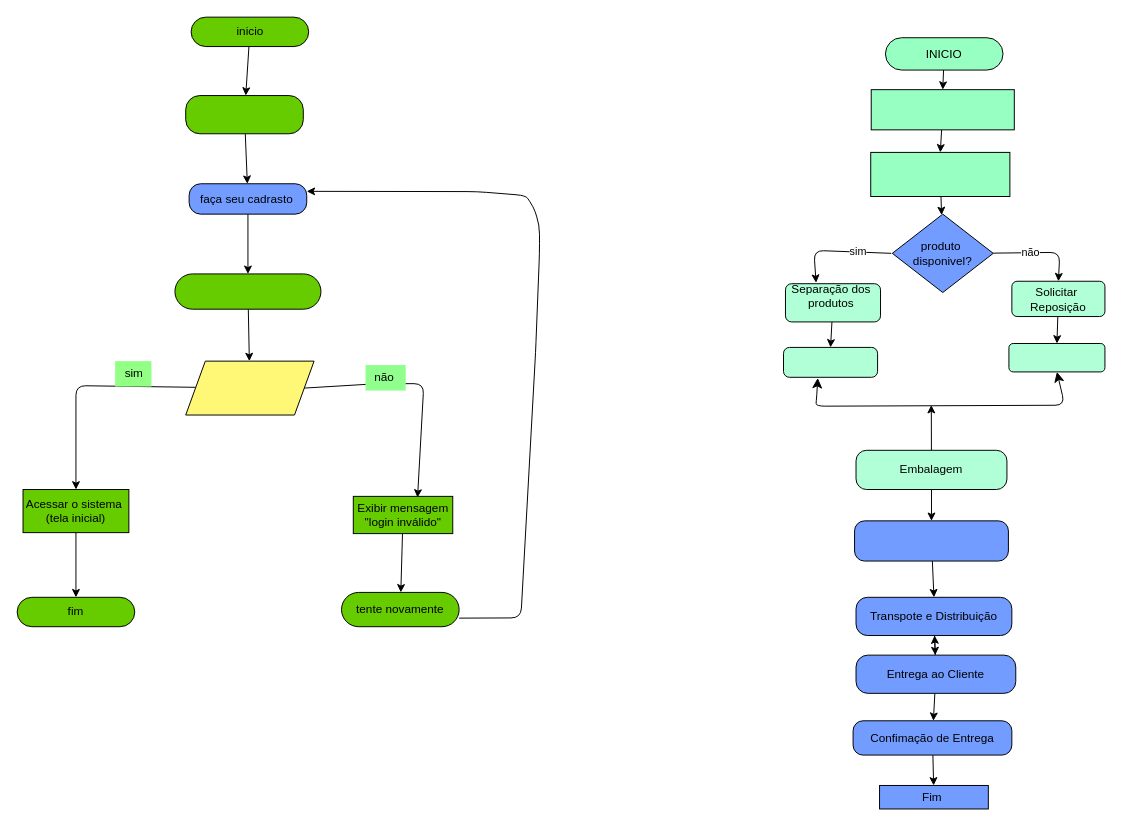
Image size: 1122x826. Some labels were removed from this diagram. The shapes that lost their labels are listed below. From the top down, each one's centre as x and y in pixels, then its label:
point (244, 114): Acessar tela de login
point (942, 109): Recebimento dos pedidos
point (940, 173): Verificação de estoque
point (247, 291): Digita usuário senha
point (830, 361): Conferência
point (1056, 357): Aguardar estoque
point (249, 387): usuário e a senha são validos?
point (931, 540): Emissão da Nota Fiscal
